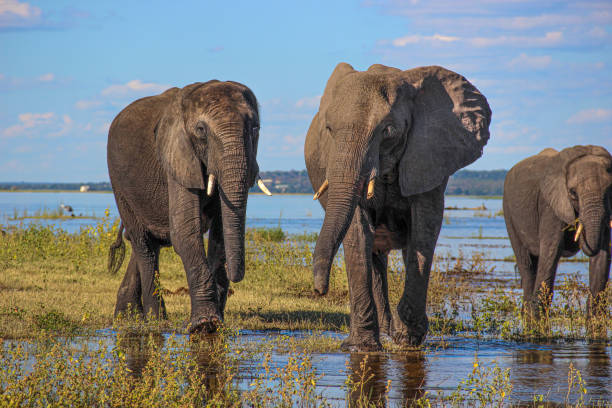africanelephant: (302, 71, 416, 279), (169, 80, 276, 259), (551, 140, 612, 247)
